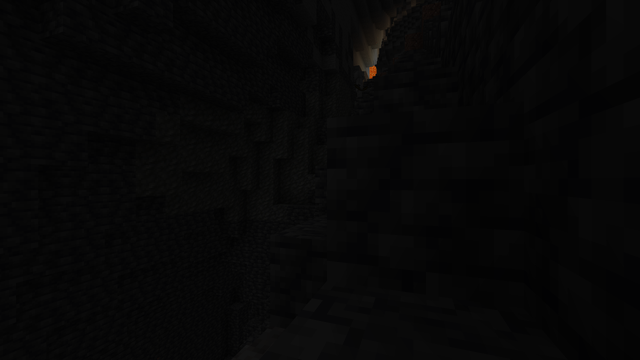squelettes: (354, 70, 364, 103)
